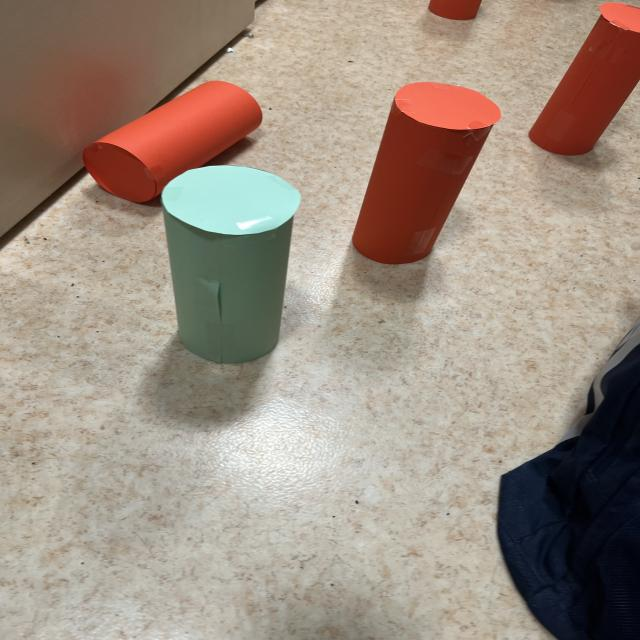meta: (162, 166, 299, 364)
przeszkoda: (352, 82, 501, 264), (83, 81, 262, 202), (529, 3, 640, 155)
